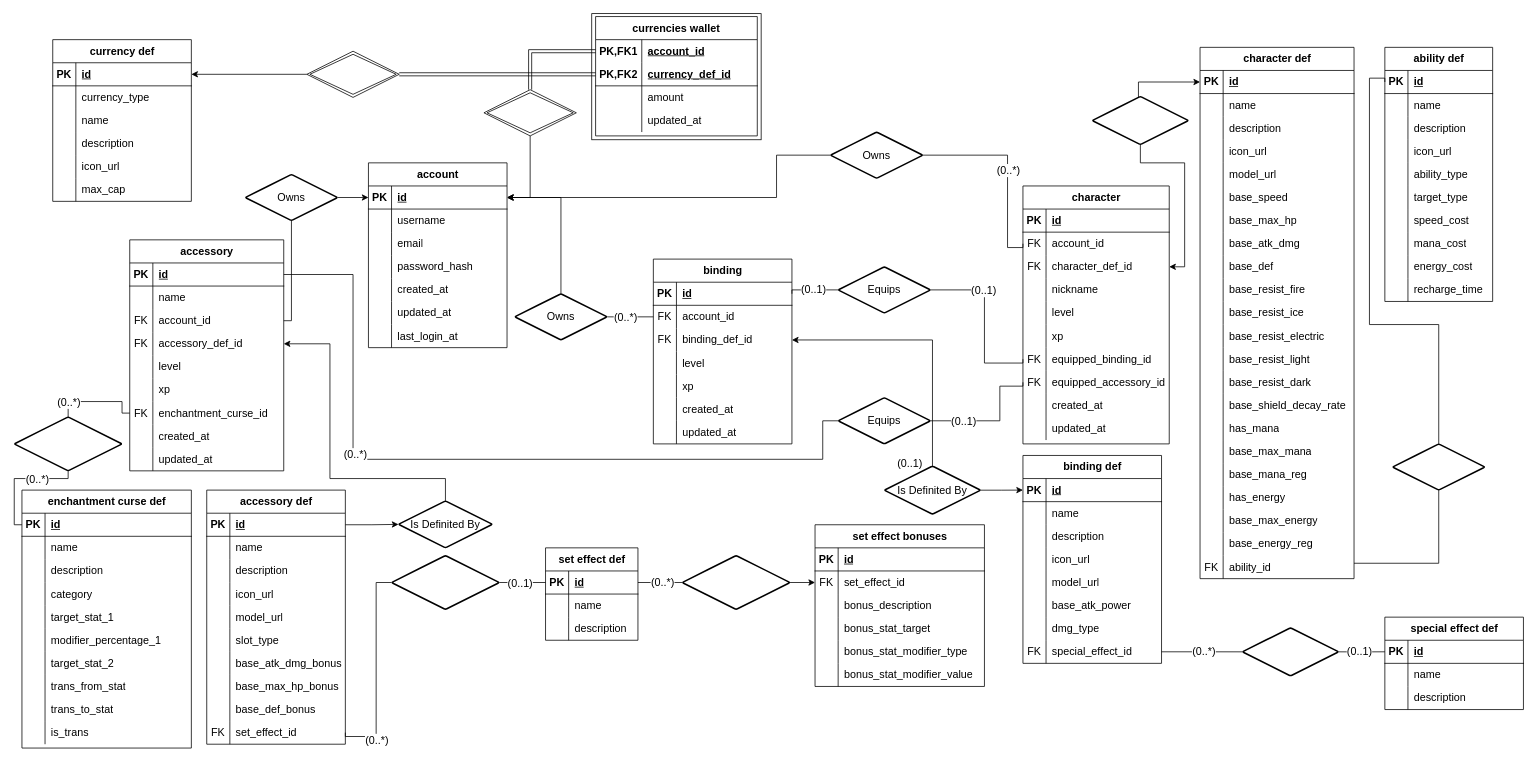
Some shapes in this 1537 by 762 pixel diagram are drawn without their labels. The centre of each missing label's shape, as x and y in pixels:
Can Cast: the point at 1438,466
Can Have: the point at 1290,651
Comprises: the point at 735,582
Has Enchantment: the point at 67,443
Holds: the point at 529,112
Is Defined By: the point at 1140,120
Is Sets of: the point at 445,582
Is Type Of: the point at 352,73
